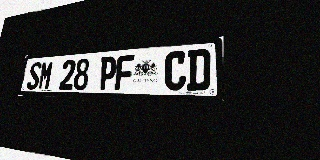2: (59, 59, 77, 90)
8: (73, 58, 91, 90)
C: (164, 51, 187, 91)
D: (186, 49, 211, 91)
F: (114, 54, 135, 90)
M: (38, 61, 54, 90)
P: (98, 56, 117, 90)
S: (26, 61, 42, 90)
